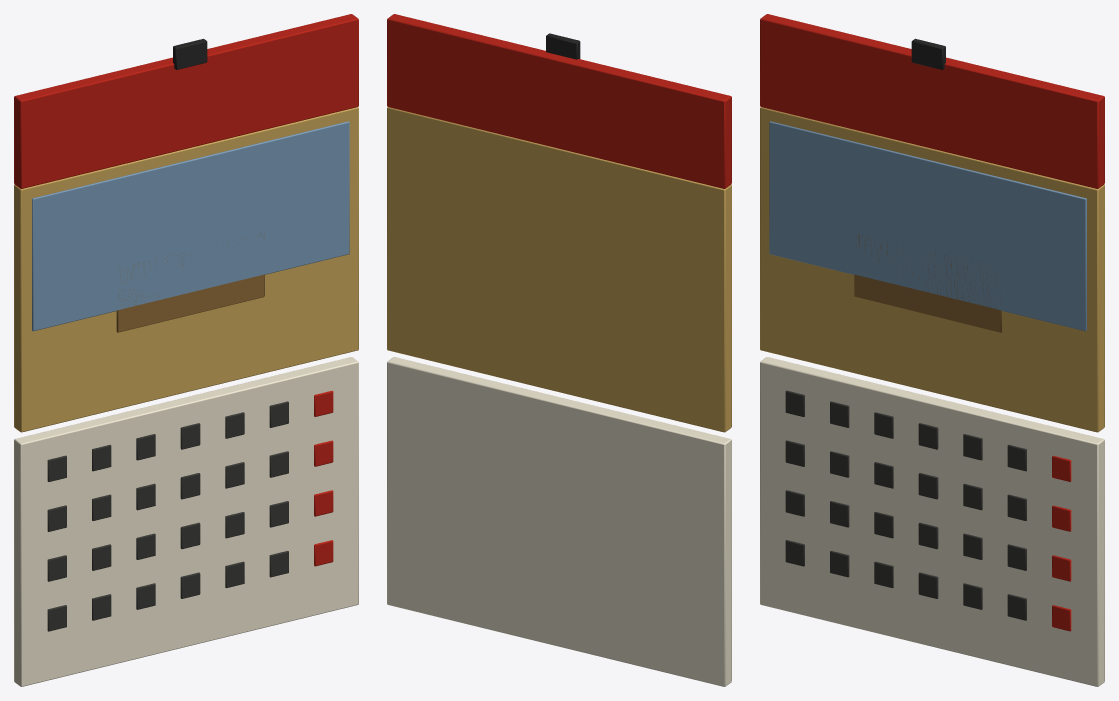
File: LichBloc_CongTy.glb
The picture shows the model from 3 angles, left to right: view 1: azimuth 30°, elevation 25°; view 2: azimuth 150°, elevation 25°; view 3: azimuth 330°, elevation 25°; orthographic projection.
Parts seen in each view (by area): view 1: LichBloc_CongTy; view 2: LichBloc_CongTy; view 3: LichBloc_CongTy.
Part boxes in pixels (box(x1,y1,x2,y2)): LichBloc_CongTy: box(14, 14, 358, 686); LichBloc_CongTy: box(387, 14, 731, 686); LichBloc_CongTy: box(760, 14, 1104, 686).
Size of the model in its own units: 0.32 by 0.545 by 0.015.
